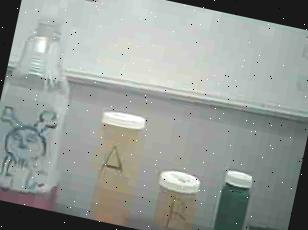Bottle A: (71, 102, 157, 228)
Bottle B: (141, 165, 207, 230)
Bottle C: (209, 166, 257, 230)
hazard: (0, 0, 99, 210)
